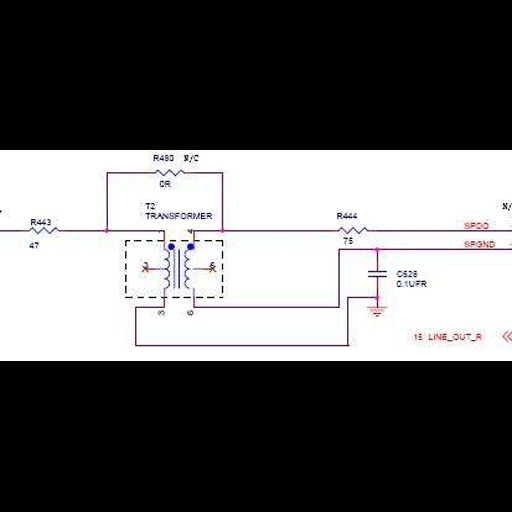capacitor: (366, 267, 389, 282)
gnd: (364, 305, 391, 319)
secondresistance: (23, 224, 66, 237), (333, 223, 374, 235), (149, 166, 191, 177)
transformer: (162, 249, 194, 290)
